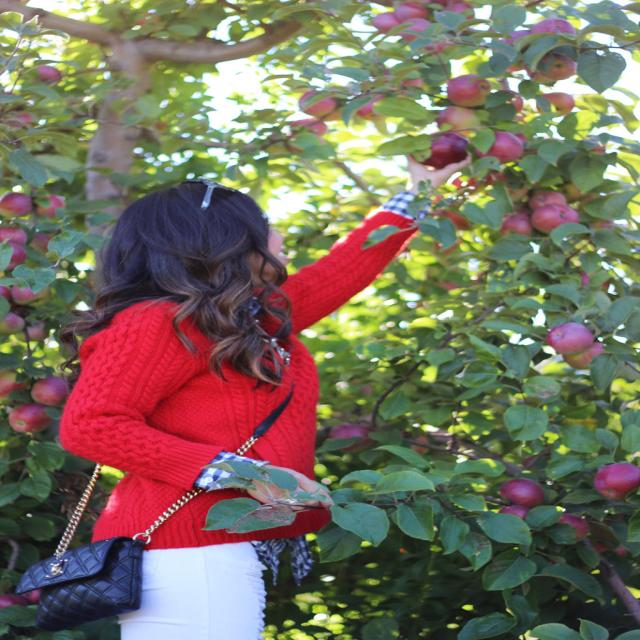Healty Apple: (285, 0, 627, 291), (0, 190, 72, 436), (590, 462, 640, 501), (545, 321, 595, 357), (496, 476, 543, 505), (326, 421, 374, 449), (553, 514, 595, 539), (586, 538, 632, 560), (401, 431, 428, 456), (496, 503, 531, 522), (36, 64, 64, 86), (345, 378, 376, 397), (0, 113, 36, 127), (0, 592, 28, 609), (21, 588, 38, 602)
